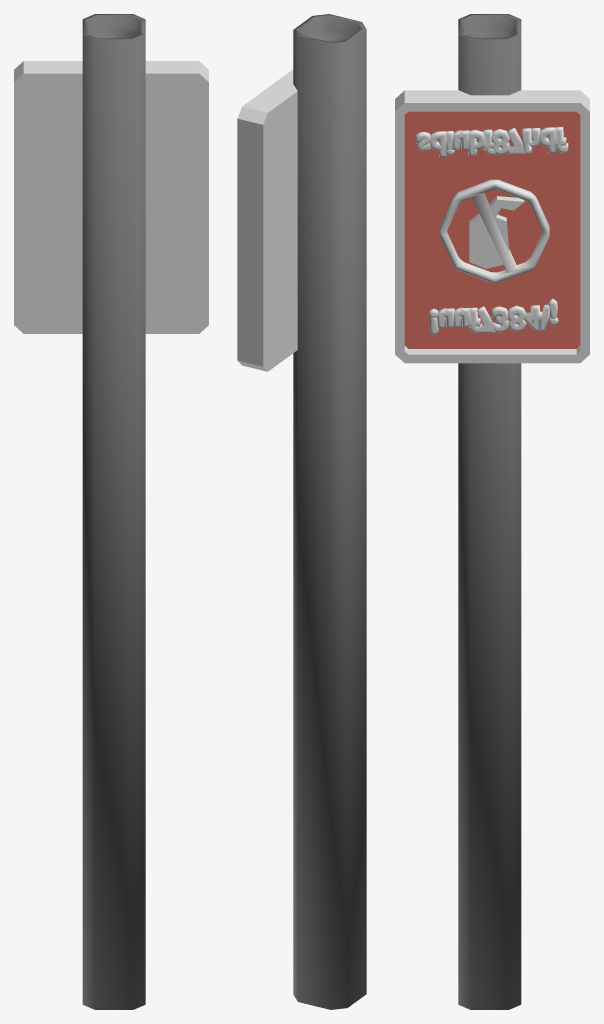
The model's file is signcone 1.fbx.
The picture shows the model from 3 angles, left to right: view 1: azimuth 90°, elevation 25°; view 2: azimuth 150°, elevation 25°; view 3: azimuth 270°, elevation 25°; orthographic projection.
Parts seen in each view (by area): view 1: Text; view 2: Text; view 3: Text.
Part boxes in pixels (x1,y1,x2,y2): Text: [14, 14, 208, 1009]; Text: [237, 14, 366, 1009]; Text: [395, 14, 589, 1009].
Bounding box in the file's own units: 258 × 3402 × 620.
